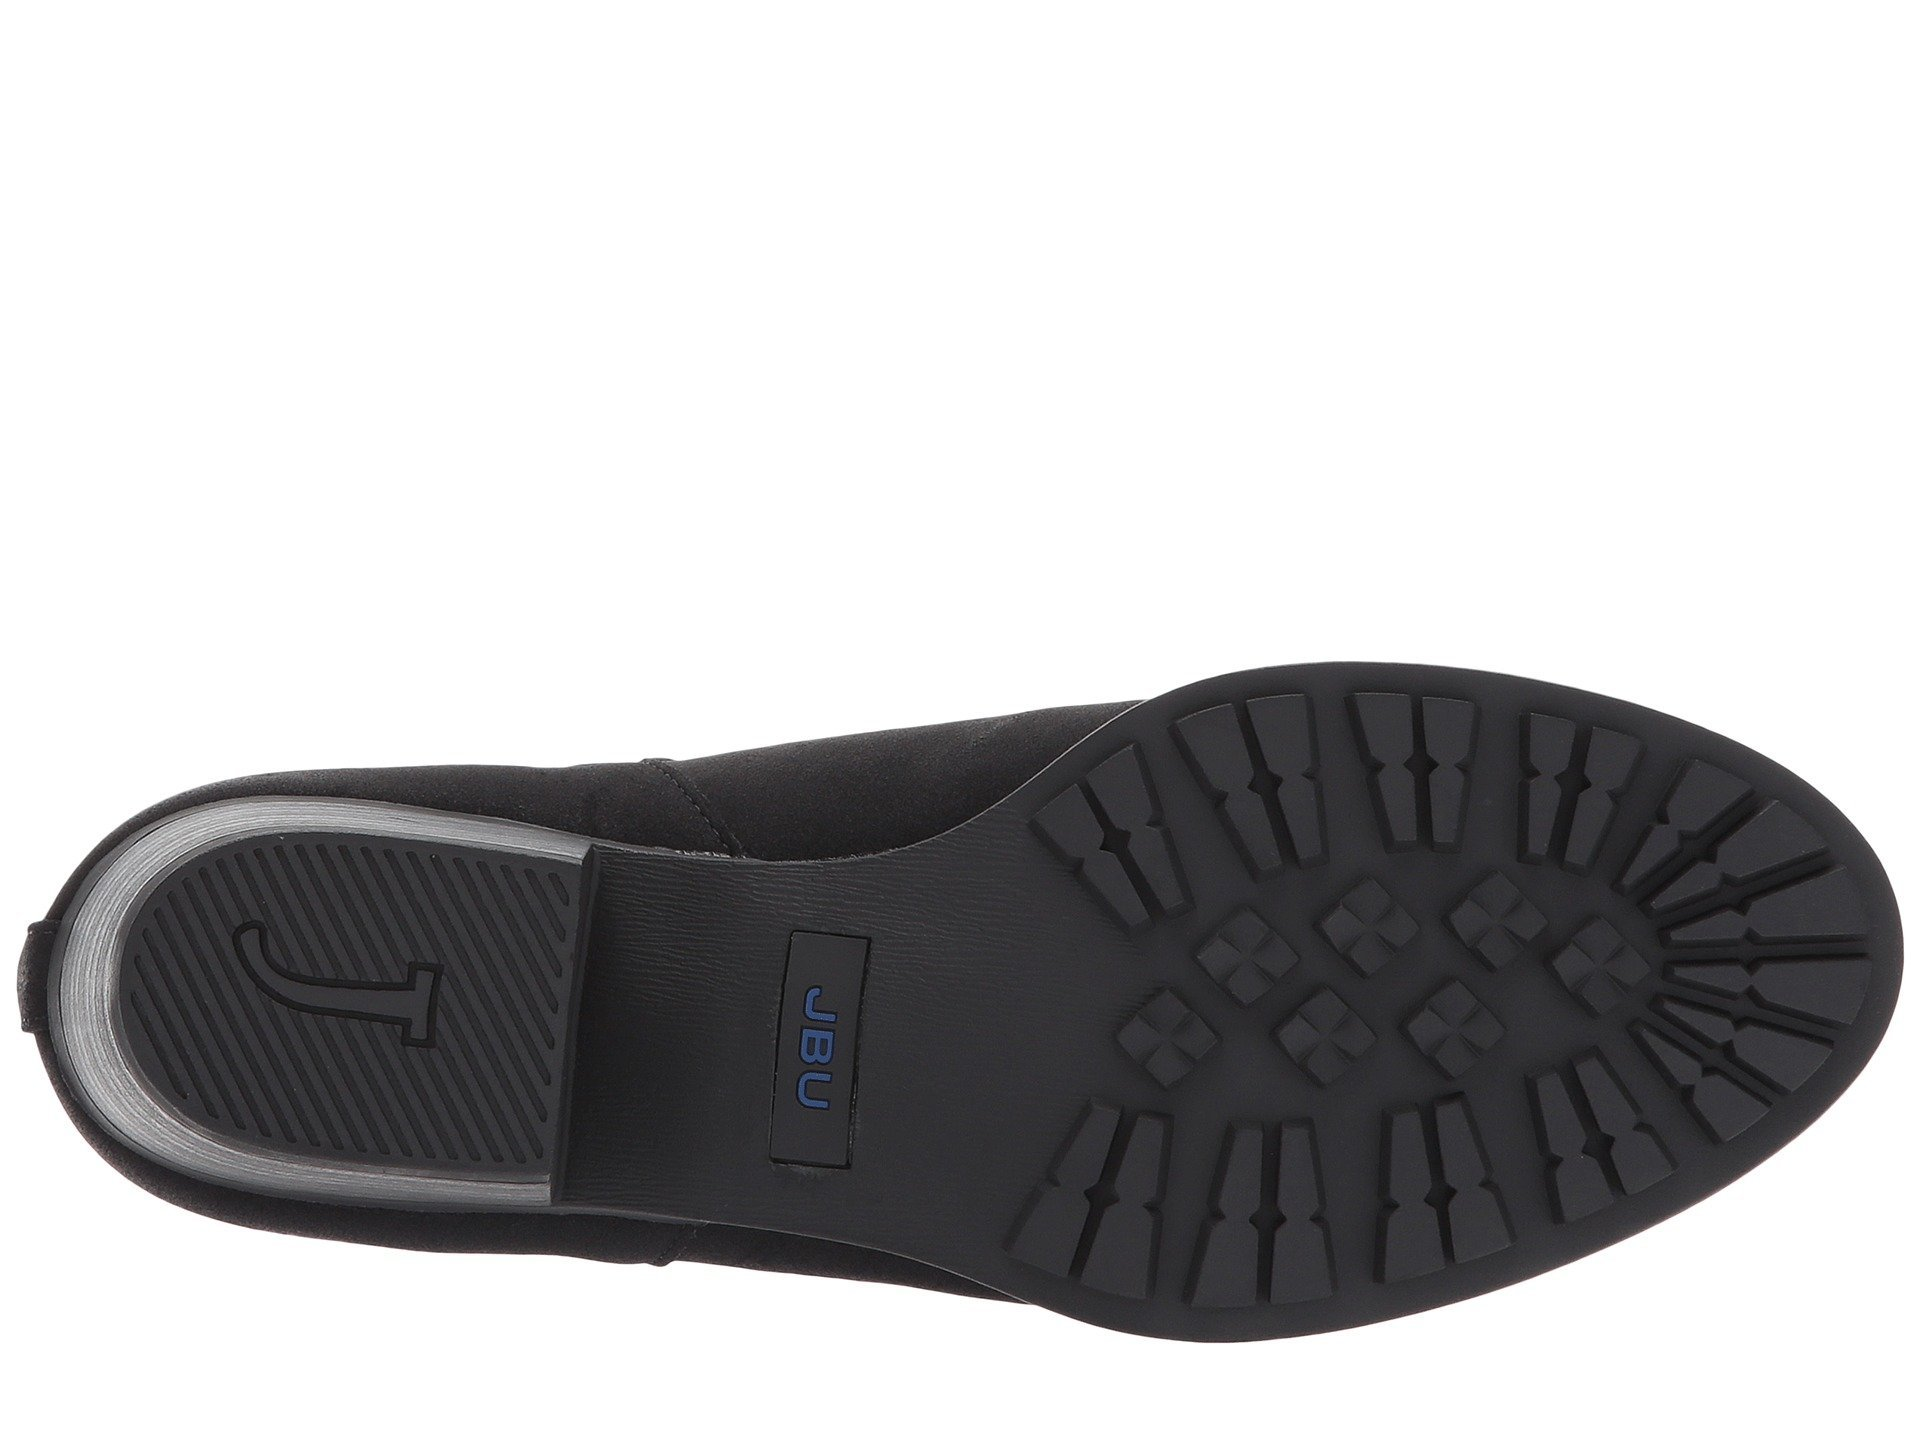line: (178, 880, 529, 1097)
quad: (1158, 787, 1533, 1181)
text: (178, 880, 529, 1097)
